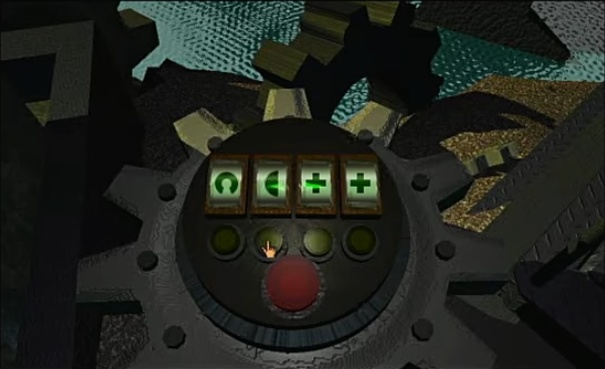Pointer: (257, 238, 284, 262)
